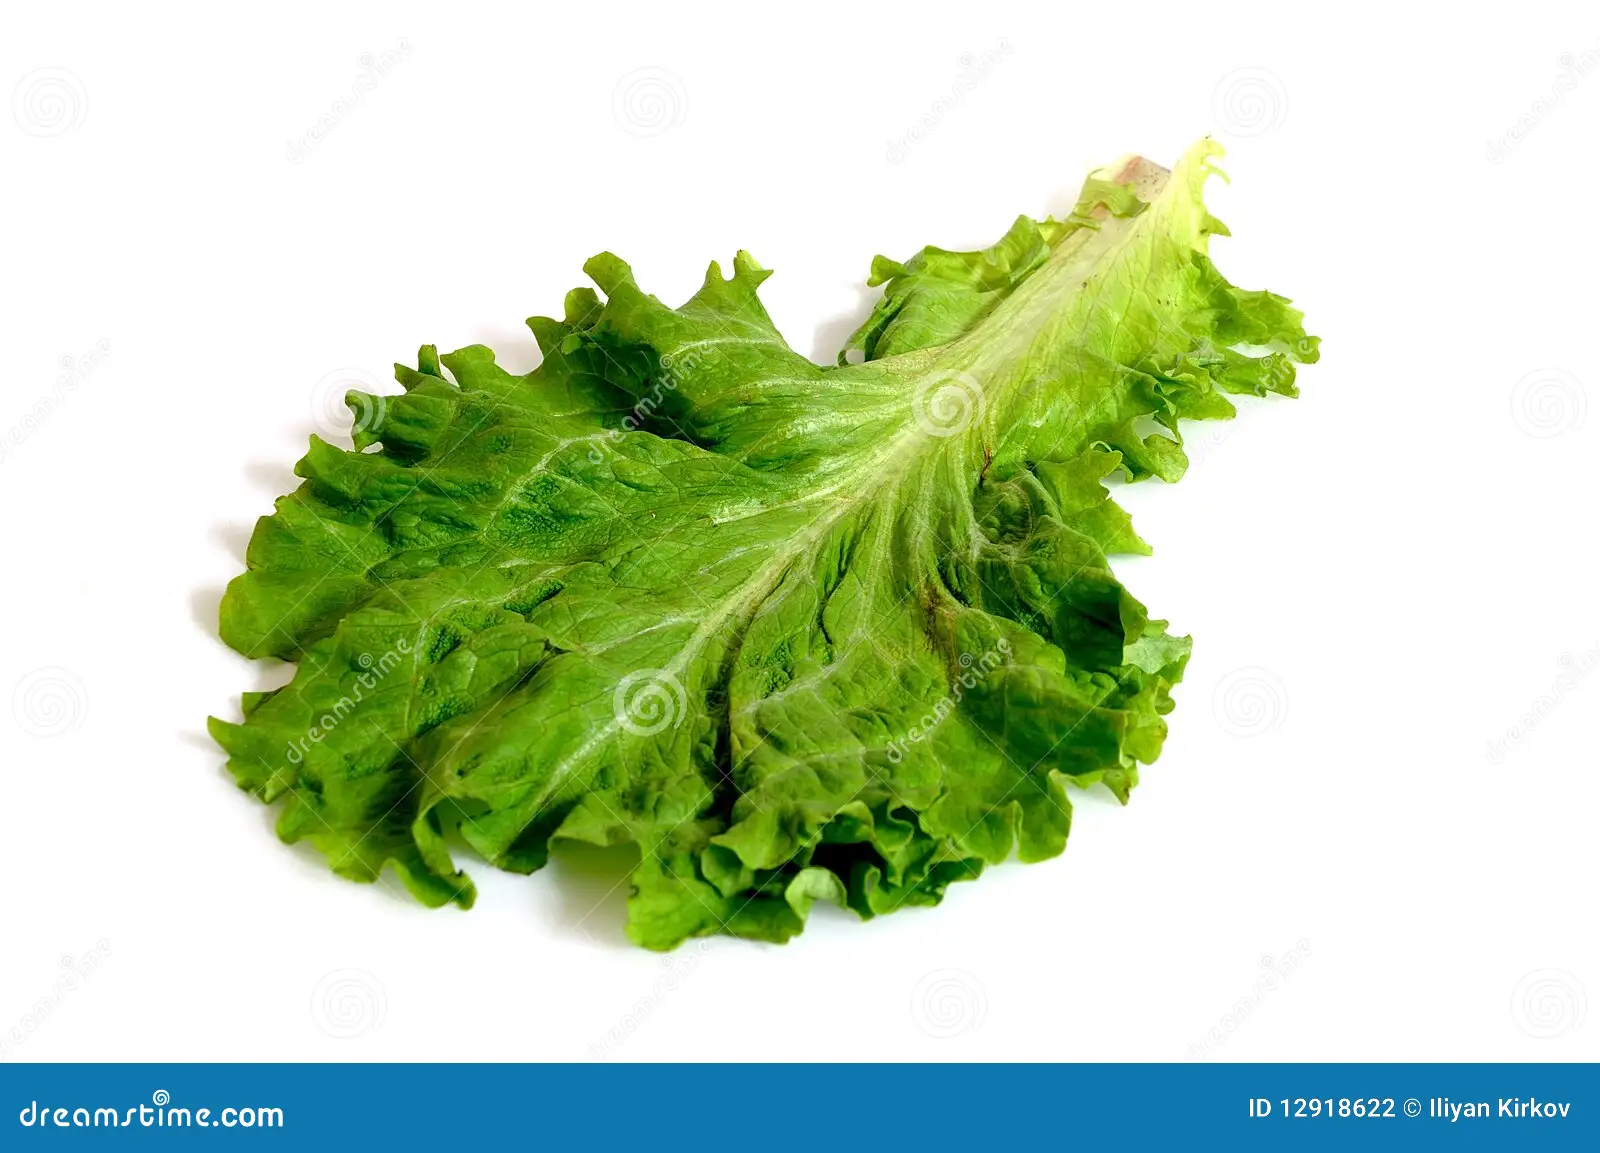lettuce: (125, 2, 1319, 942)
